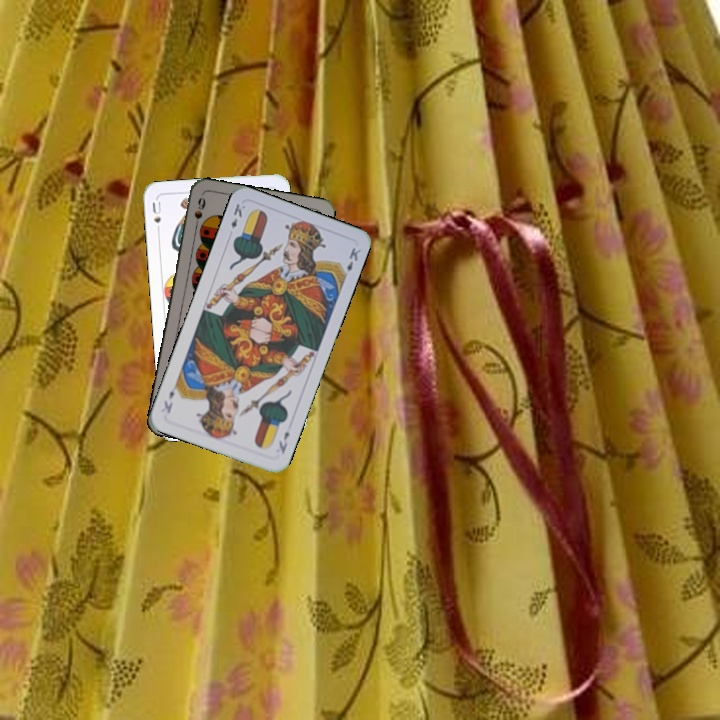EK: (227, 200, 248, 231), (275, 427, 292, 456)
S9: (190, 193, 208, 233)
SU: (148, 197, 163, 237)
